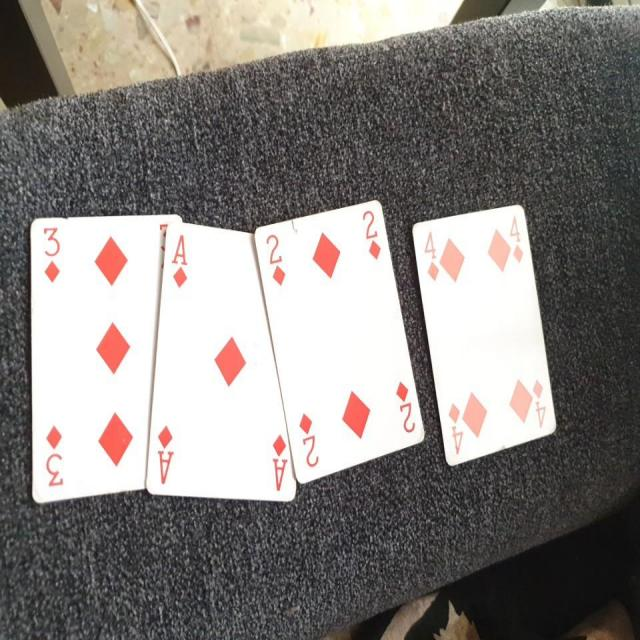2 Diamonds: (256, 197, 426, 490)
3 Diamonds: (24, 212, 185, 505)
4 Diamonds: (406, 197, 560, 472)
A Diamonds: (143, 220, 299, 510)
